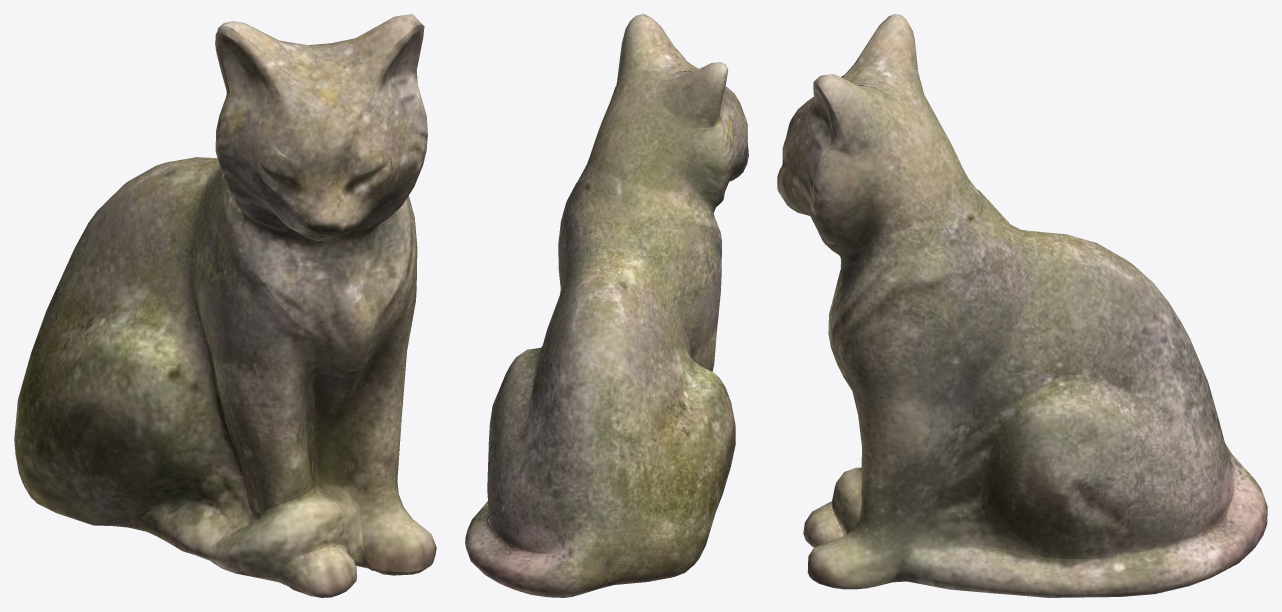
File: ph_concrete_cat_statue.glb
3 renders of one model, left to right at view 1: azimuth 30°, elevation 25°; view 2: azimuth 150°, elevation 25°; view 3: azimuth 270°, elevation 25°, orthographic. The views are drawn at different scales.
Visible parts, largest first — view 1: concrete_cat_statue; view 2: concrete_cat_statue; view 3: concrete_cat_statue.
Part boxes in pixels (box(x1,y1,x2,y2)): concrete_cat_statue: box(14, 14, 436, 597); concrete_cat_statue: box(465, 14, 748, 597); concrete_cat_statue: box(777, 14, 1267, 597).
Bounding box in the file's own units: 0.1529 × 0.2831 × 0.25.
1 material, 1 textured.
